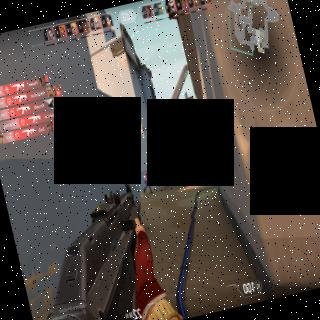ENEMY-BODY: (142, 171, 152, 194)
ENEMY-HEAD: (144, 172, 146, 176)
